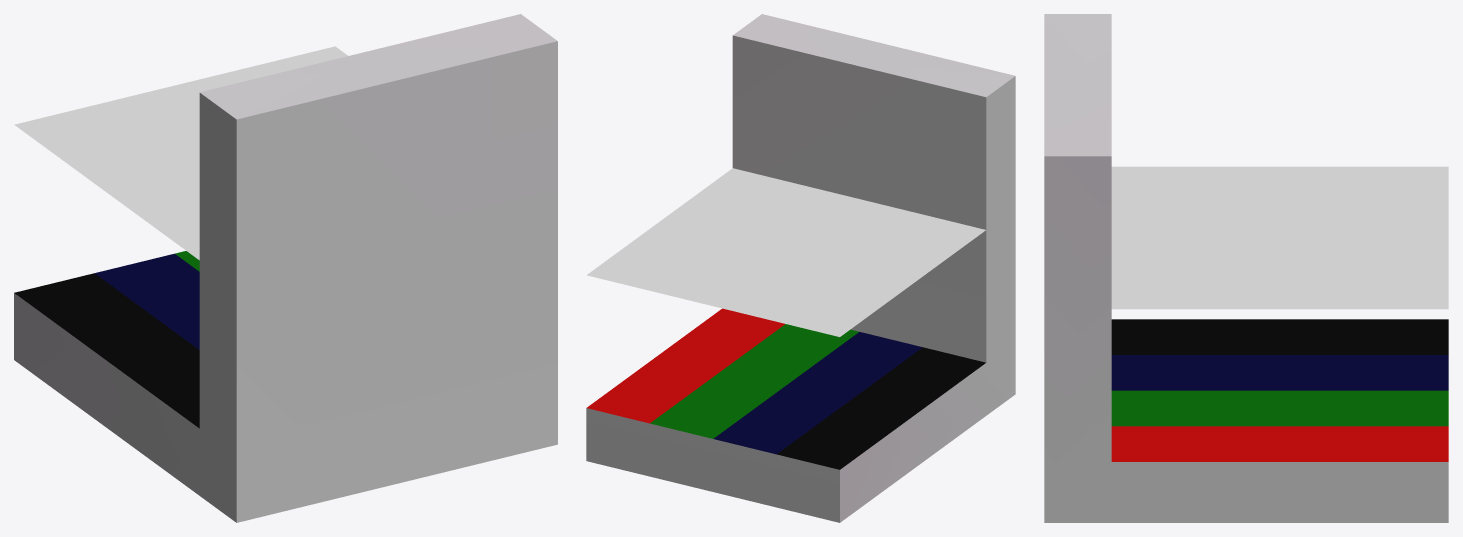
File: Display.fbx
3 views of the same model, side by side, from view 1: azimuth 30°, elevation 25°; view 2: azimuth 150°, elevation 25°; view 3: azimuth 270°, elevation 25° (orthographic). The views are drawn at different scales.
Visible parts, largest first — view 1: Display, Plane; view 2: Display, Plane; view 3: Display, Plane.
Part boxes in pixels (x1,y1,x2,y2): Display: [14, 14, 557, 522]; Plane: [14, 46, 347, 260]; Display: [586, 14, 1015, 522]; Plane: [587, 168, 985, 336]; Display: [1044, 14, 1448, 522]; Plane: [1111, 166, 1448, 309].
Size of the model in its own units: 100 by 120 by 120.
